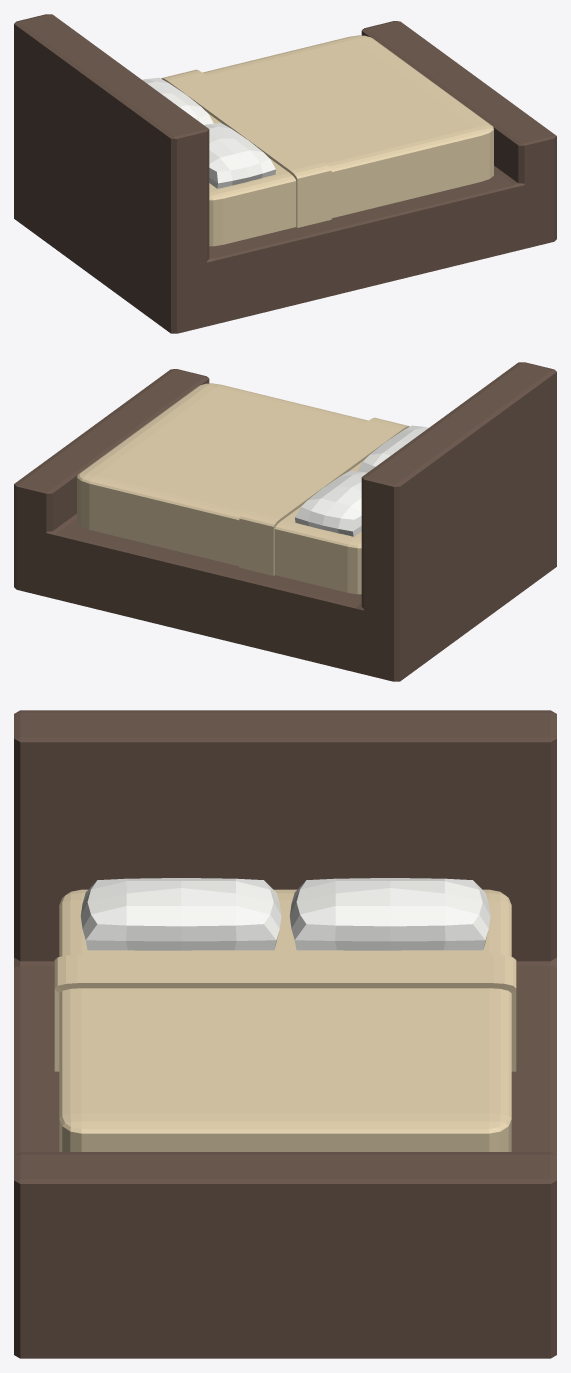
The model's file is CamaMatrimonial_01.fbx.
The picture shows the model from 3 angles, top to bottom: view 1: azimuth 30°, elevation 25°; view 2: azimuth 150°, elevation 25°; view 3: azimuth 270°, elevation 25°; orthographic projection. The views are drawn at different scales.
Visible parts, largest first — view 1: CamaMatrimonial_01; view 2: CamaMatrimonial_01; view 3: CamaMatrimonial_01.
Part boxes in pixels (x1,y1,x2,y2): CamaMatrimonial_01: [14, 14, 556, 333]; CamaMatrimonial_01: [14, 362, 556, 681]; CamaMatrimonial_01: [14, 710, 556, 1358].
Size of the model in its own units: 250 by 121 by 180.
